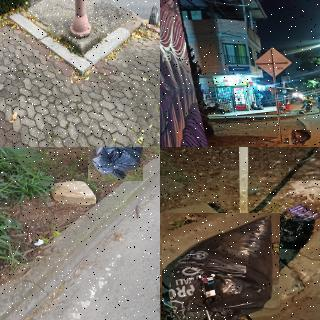Garbage: (162, 212, 281, 320), (88, 147, 142, 180), (289, 130, 311, 145), (297, 111, 304, 115)
